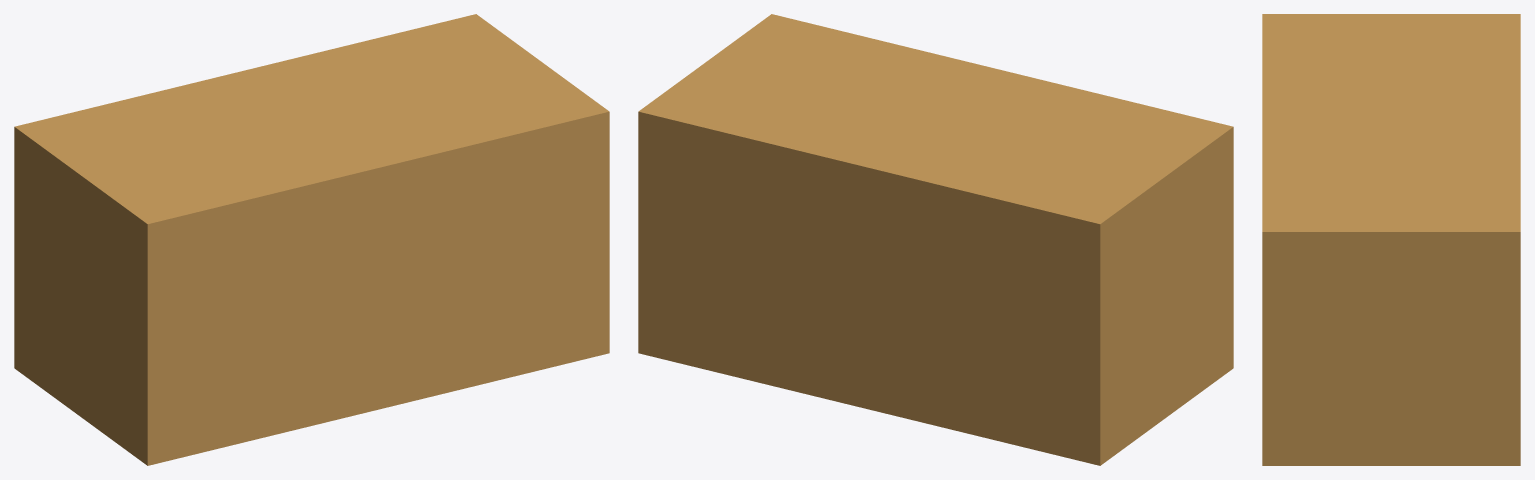
Rendered from wall top 1.fbx.
3 views of the same model, side by side, from view 1: azimuth 30°, elevation 25°; view 2: azimuth 150°, elevation 25°; view 3: azimuth 270°, elevation 25° (orthographic). The views are drawn at different scales.
Parts seen in each view (by area): view 1: pCube2; view 2: pCube2; view 3: pCube2.
Boxes of the visible parts, x1,y1,x2,y2 form: pCube2: (14, 14, 609, 465); pCube2: (638, 14, 1233, 465); pCube2: (1262, 14, 1520, 465).
Size of the model in its own units: 200 by 100 by 100.
